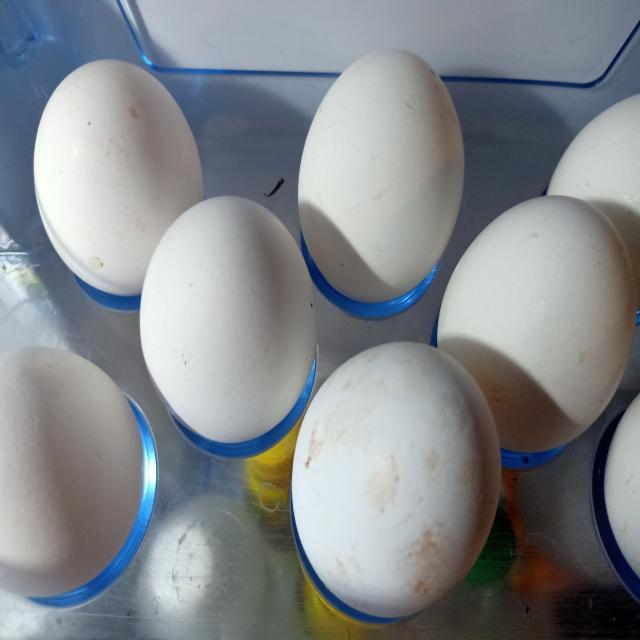Egg: (289, 342, 504, 628), (436, 195, 640, 459), (296, 51, 466, 358), (138, 196, 320, 461), (31, 59, 206, 309), (0, 346, 156, 612)
